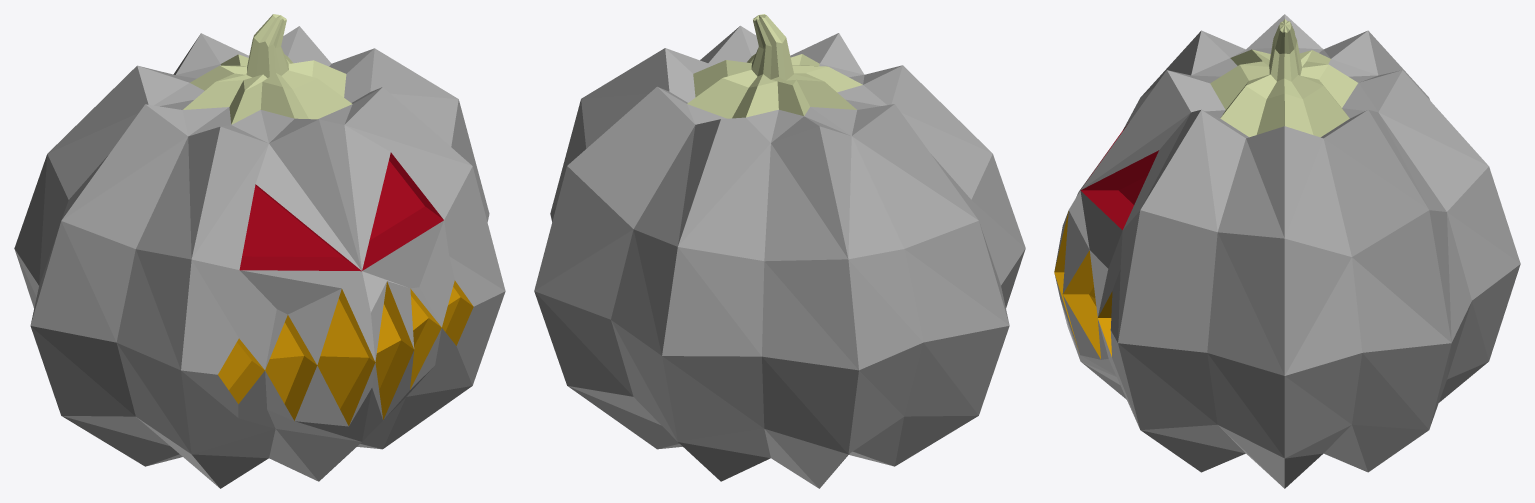
Rendered from pumpkin.fbx.
3 renders of one model, left to right at view 1: azimuth 30°, elevation 25°; view 2: azimuth 150°, elevation 25°; view 3: azimuth 270°, elevation 25°, orthographic.
Visible parts, largest first — view 1: lowPolyIceAssets:pSphere4; view 2: lowPolyIceAssets:pSphere4; view 3: lowPolyIceAssets:pSphere4.
Part boxes in pixels (x1=…): lowPolyIceAssets:pSphere4: x1=14, y1=14, x2=505, y2=488; lowPolyIceAssets:pSphere4: x1=534, y1=14, x2=1025, y2=488; lowPolyIceAssets:pSphere4: x1=1054, y1=14, x2=1520, y2=488.
Size of the model in its own units: 0.0218 by 0.019 by 0.0191.
